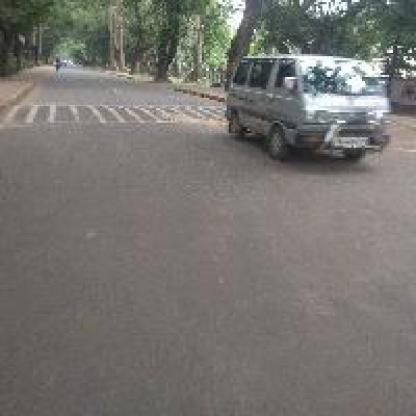Speed Bump: (0, 95, 221, 130)
